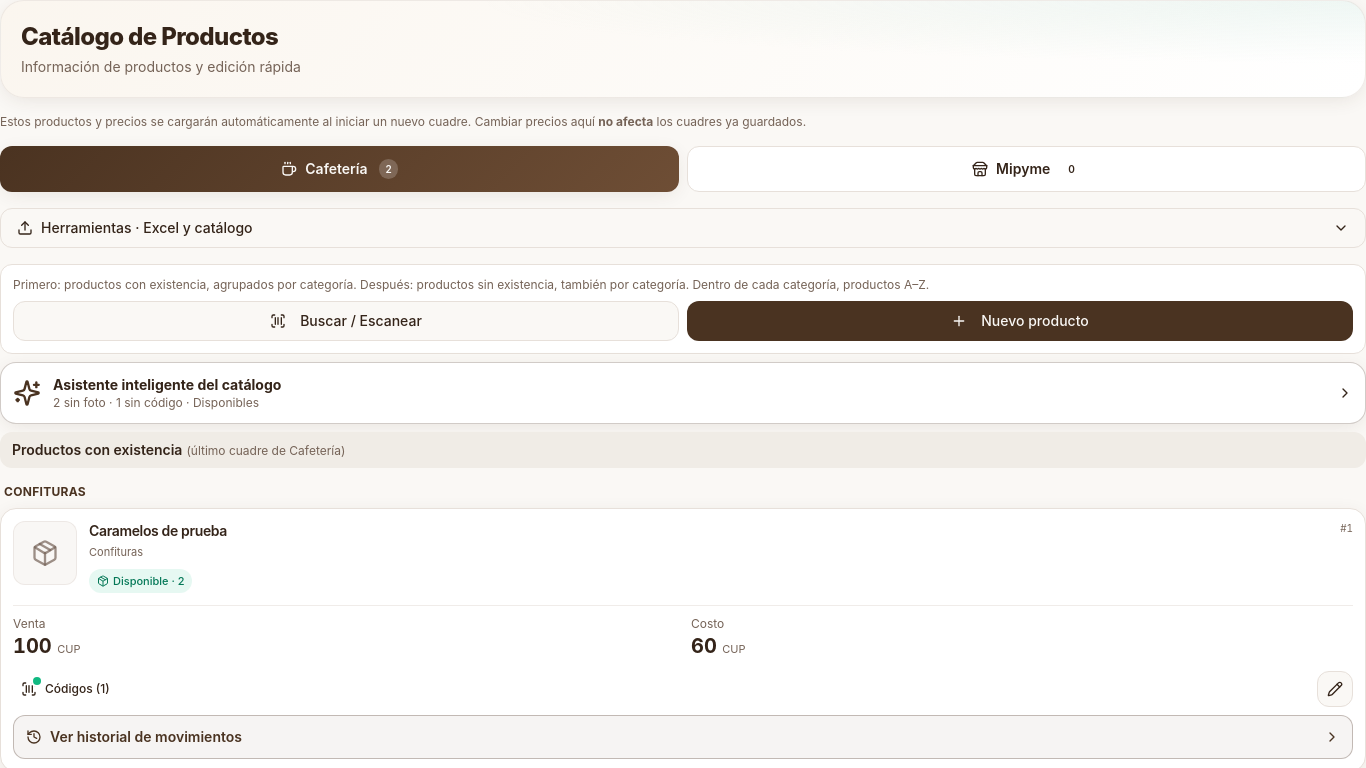
Test: Catálogo con asistente inteligente › abre con productos disponibles sin confundir el código pendiente del escáner con el filtro
Click the button "Asistente inteligente del catálogo": (167, 384) 0,362 -> 1365,424
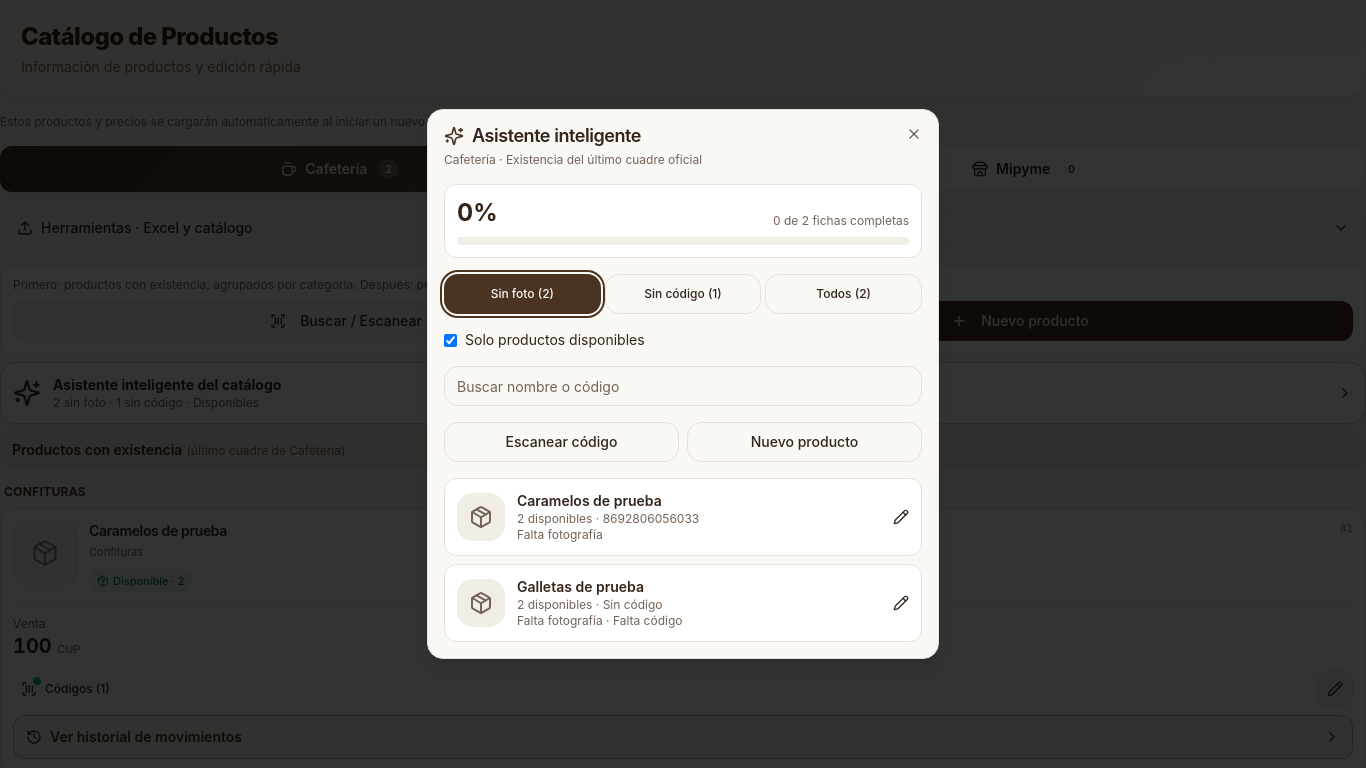
expect the dialog is shown: met, box 427,109 -> 939,659
expect the button "Sin código (1)" is shown: met, box 605,274 -> 761,314
